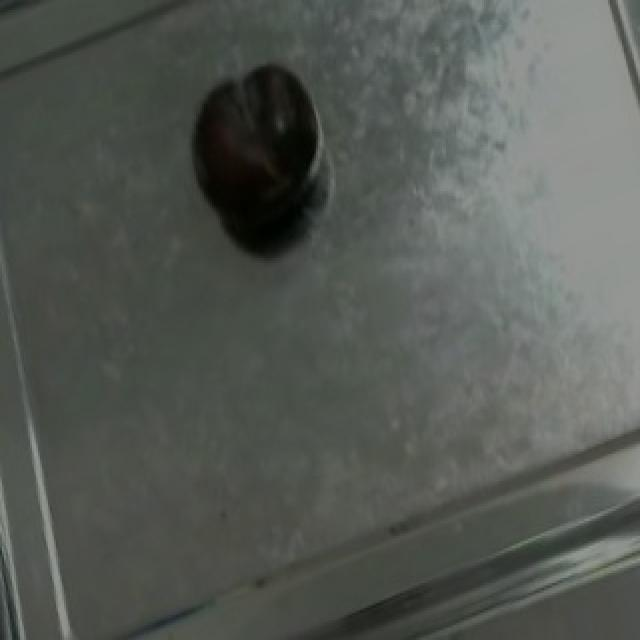Fruit: (172, 45, 332, 253)
